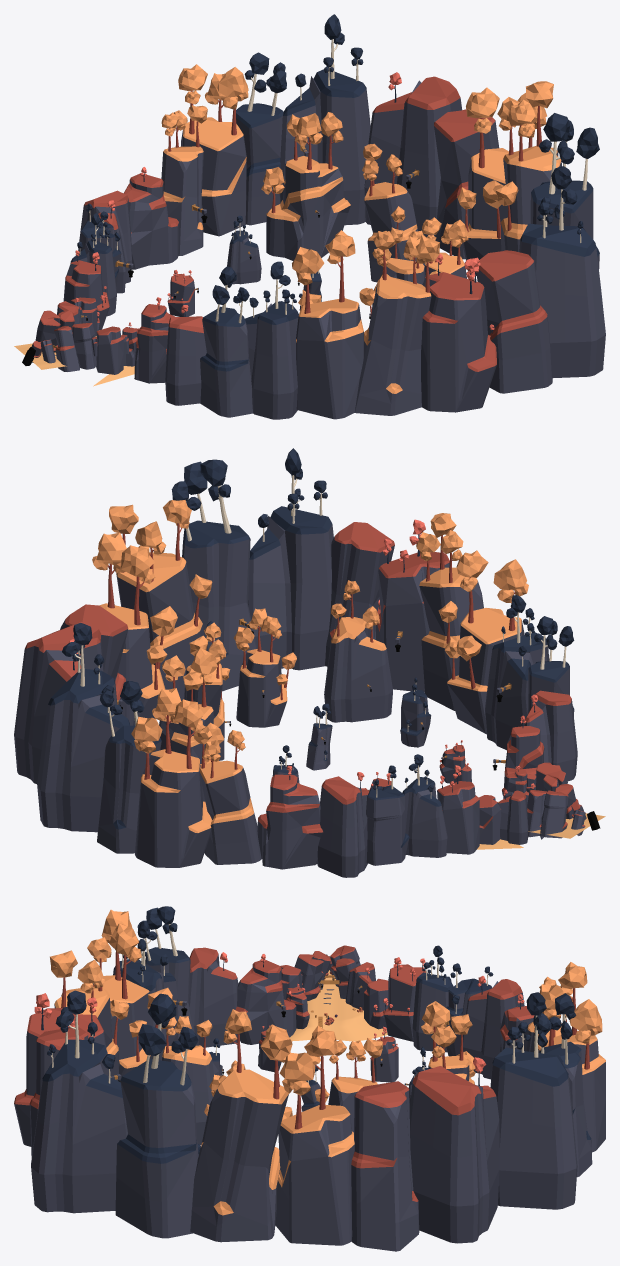
Rendered from beachside 1.fbx.
3 renders of one model, top to bottom at view 1: azimuth 30°, elevation 25°; view 2: azimuth 150°, elevation 25°; view 3: azimuth 270°, elevation 25°, orthographic. The views are drawn at different scales.
Parts seen in each view (by area): view 1: Middle3.002, rock_lp_09.004, Inner1.002, Outer1.001, rock_lp_08.001, rock_lp_09.005, Middle3.003, rock_lp_11.002, Outer1.003, Middle3.001, Middle2.001, rock_lp_09.006 (+23 smaller); view 2: Middle3.002, Middle3.003, Outer1.003, Middle2.002, rock_lp_09.006, Outer1.001, Outer2, rock_lp_09.004, Inner1.002, Outer1.002, rock_lp_11.002, rock_lp_09.008 (+23 smaller); view 3: rock_lp_09.006, Middle3.002, Middle2.002, rock_lp_11.002, Middle3.003, Outer1.002, rock_lp_09.007, Outer1.003, Outer1.001, rock_lp_11.001, rock_lp_09.004, rock_lp_08.002 (+23 smaller).
Part boxes in pixels (x1,y1,x2,y2): Middle3.002: (519,166,605,378); rock_lp_09.004: (354,231,439,415); Inner1.002: (421,254,496,412); Outer1.001: (292,230,363,419); rock_lp_08.001: (261,112,350,260); rock_lp_09.005: (476,250,552,393); Middle3.003: (279,14,370,225); rock_lp_11.002: (364,72,462,237); Outer1.003: (178,64,248,236); Middle3.001: (245,261,298,419); Middle2.001: (200,266,252,417); rock_lp_09.006: (495,81,561,251); Middle3.002: (248,448,333,670); Middle3.003: (37,623,130,832); Outer1.003: (131,688,212,867); Middle2.002: (171,459,257,691); rock_lp_09.006: (109,500,212,700); Outer1.001: (444,550,528,733); Outer2: (324,580,392,722); rock_lp_09.004: (416,513,483,710); Inner1.002: (375,519,449,692); Outer1.002: (92,532,177,725); rock_lp_11.002: (14,622,103,783); rock_lp_09.008: (193,726,261,864); rock_lp_09.006: (190,1009,292,1242); Middle3.002: (31,990,127,1213); Middle2.002: (115,993,200,1238); rock_lp_11.002: (409,1057,499,1243); Middle3.003: (490,992,577,1209); Outer1.002: (275,1026,354,1245); rock_lp_09.007: (351,1081,419,1251); Outer1.003: (538,962,605,1152); Outer1.001: (93,909,172,1081); rock_lp_11.001: (189,947,238,1047); rock_lp_09.004: (50,937,129,1080); rock_lp_08.002: (235,954,296,1044).
Bounding box in the file's own units: 85343 × 33906 × 80451.
